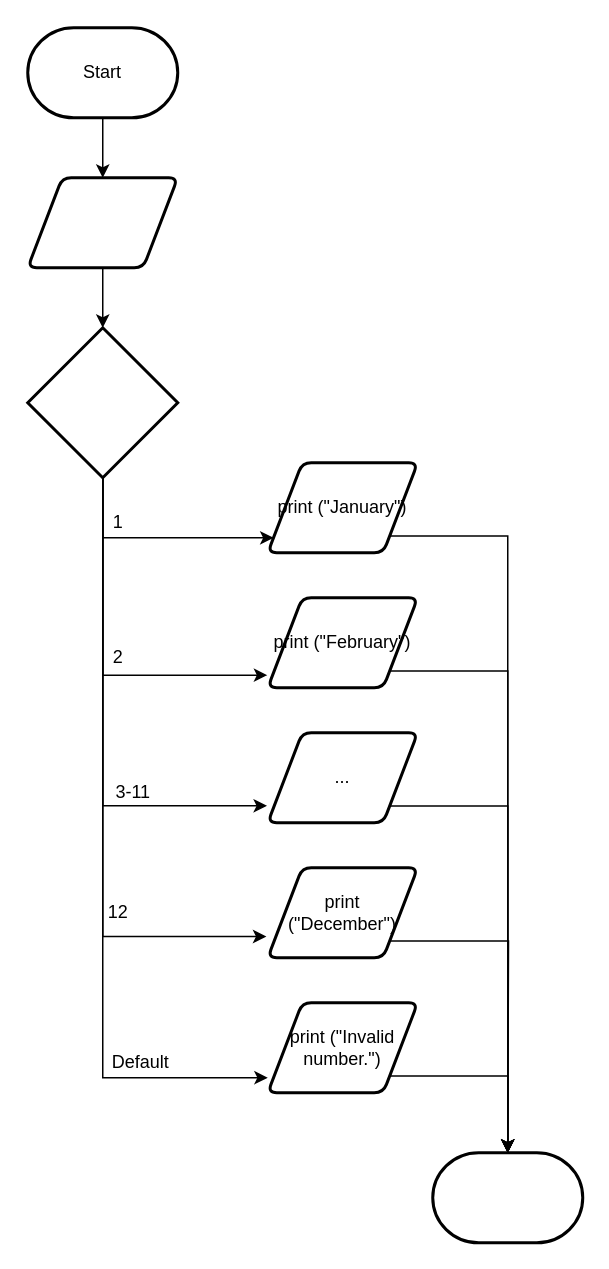
The diagram is 609 pixels wide and 1269 high, and some of its shapes have lost their labels. Each missing label, with the box of its shape:
Get number: (26, 176, 178, 268)
number of month: (26, 326, 178, 478)
Stop: (430, 1150, 584, 1244)
